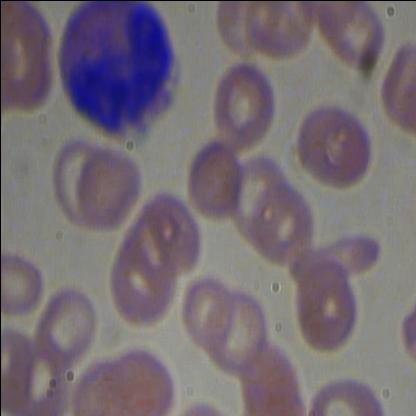RBC: (285, 100, 373, 190), (206, 56, 280, 148), (69, 140, 144, 230), (292, 260, 367, 350), (196, 286, 271, 376), (33, 275, 100, 364), (180, 137, 247, 226), (317, 1, 387, 83), (0, 228, 50, 318)
WBC: (51, 1, 189, 149)
